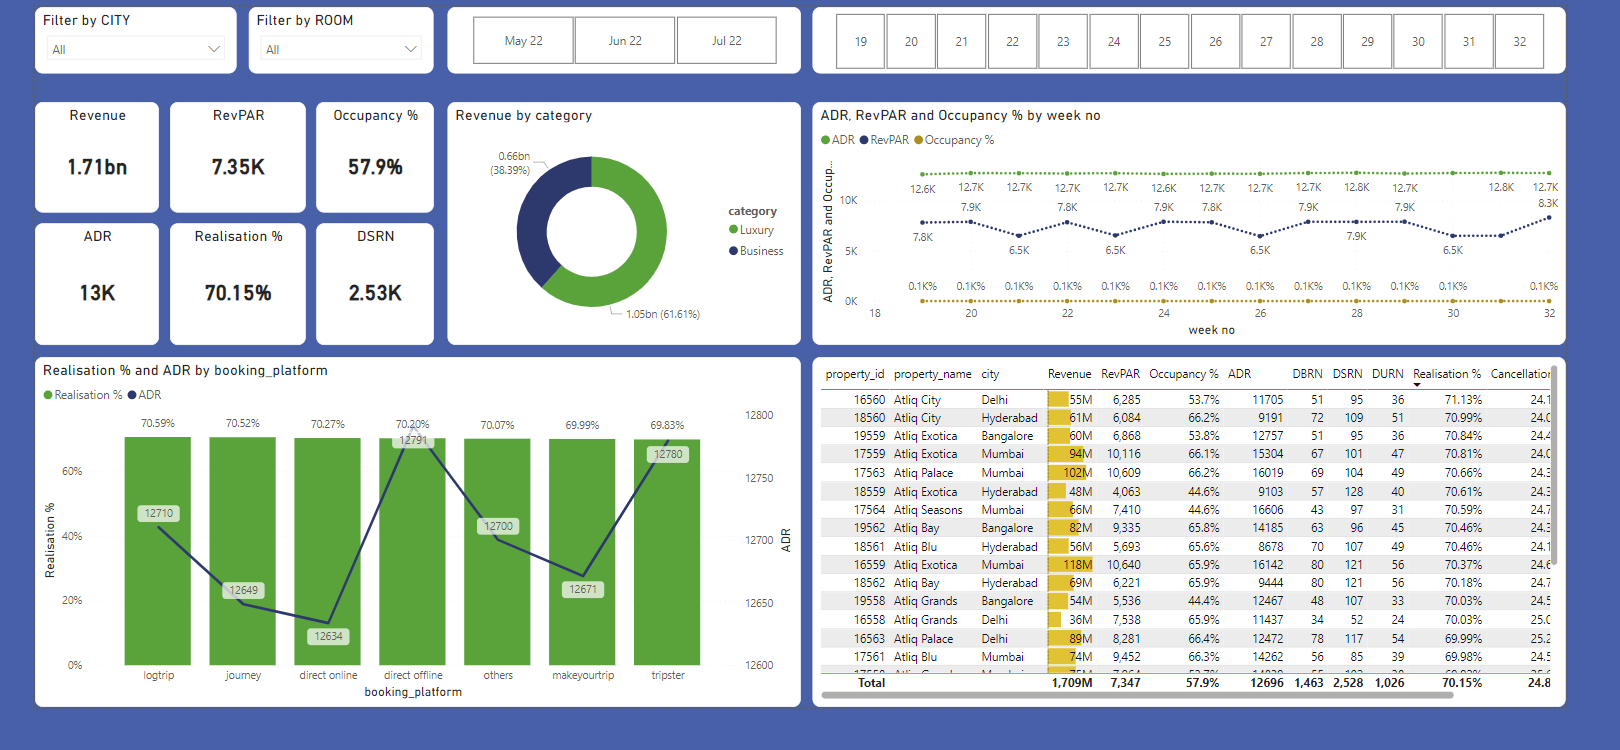

The dashboard page shown, as its layout file describes it:
{"tool":"powerbi","page":{"name":"Report","canvas":[1750,800],"ordinal":0},"visuals":[{"type":"tableEx","fields":{"Values":["dim_hotels.property_id","dim_hotels.property_name","dim_hotels.city","key_measures.Revenue","key_measures.RevPAR","key_measures.Occupancy %","key_measures.ADR","key_measures.DBRN","key_measures.DSRN","key_measures.DURN","key_measures.Realisation %","key_measures.Cancellation %"]},"box":[888.9,400,861.1,400],"z":0},{"type":"slicer","title":"Filter by CITY","fields":{"Values":["dim_hotels.city"]},"box":[0,0,230.6,76.4],"z":1000},{"type":"slicer","title":"Filter by ROOM","fields":{"Values":["dim_rooms.room_class"]},"box":[244.4,0,211.1,76.4],"z":2000},{"type":"slicer","title":"Filter by Year","fields":{"Values":["dim_date.mmm yy"]},"box":[470.8,0,404.2,76.4],"z":3000},{"type":"card","title":"Revenue","fields":{"Values":["key_measures.Revenue"]},"box":[0,108.3,141.7,126.4],"z":4000},{"type":"slicer","title":"Week","fields":{"Values":["dim_date.week no"]},"box":[888.9,0,861.1,76.4],"z":5000},{"type":"card","title":"RevPAR","fields":{"Values":["key_measures.RevPAR"]},"box":[154.2,108.3,155.6,126.4],"z":6000},{"type":"card","title":"Occupancy %","fields":{"Values":["key_measures.Occupancy %"]},"box":[320.8,108.3,134.7,126.4],"z":7000},{"type":"card","title":"ADR","fields":{"Values":["key_measures.ADR"]},"box":[0,247.2,141.7,138.9],"z":8000},{"type":"card","title":"Realisation %","fields":{"Values":["key_measures.Realisation %"]},"box":[154.2,247.2,155.6,138.9],"z":9000},{"type":"card","title":"DSRN","fields":{"Values":["key_measures.DSRN"]},"box":[320.8,247.2,134.7,138.9],"z":10000},{"type":"donutChart","fields":{"Category":["dim_hotels.category"],"Y":["key_measures.Revenue"]},"box":[470.8,108.3,404.2,277.8],"z":11000},{"type":"lineChart","fields":{"Category":["dim_date.week no"],"Y":["key_measures.ADR","key_measures.RevPAR","key_measures.Occupancy %"]},"box":[888.9,108.3,861.1,277.8],"z":12000},{"type":"lineStackedColumnComboChart","fields":{"Category":["fact_bookings.booking_platform"],"Y":["key_measures.Realisation %"],"Y2":["key_measures.ADR"]},"box":[0,400,875,400],"z":12001}]}

Visuals, with their boxes in screenshot pixels (x1, y1, x2, y2), scaled from the page's 1750x800 canvas onto the 1620x750 screenshot:
tableEx - dim_hotels.property_id x dim_hotels.property_name: {"left": 823, "top": 375, "right": 1619, "bottom": 749}
"Filter by CITY" slicer: {"left": 0, "top": 0, "right": 213, "bottom": 72}
"Filter by ROOM" slicer: {"left": 226, "top": 0, "right": 422, "bottom": 72}
"Filter by Year" slicer: {"left": 436, "top": 0, "right": 810, "bottom": 72}
"Revenue" card: {"left": 0, "top": 102, "right": 131, "bottom": 220}
"Week" slicer: {"left": 823, "top": 0, "right": 1619, "bottom": 72}
"RevPAR" card: {"left": 143, "top": 102, "right": 287, "bottom": 220}
"Occupancy %" card: {"left": 297, "top": 102, "right": 422, "bottom": 220}
"ADR" card: {"left": 0, "top": 232, "right": 131, "bottom": 362}
"Realisation %" card: {"left": 143, "top": 232, "right": 287, "bottom": 362}
"DSRN" card: {"left": 297, "top": 232, "right": 422, "bottom": 362}
donutChart - dim_hotels.category x key_measures.Revenue: {"left": 436, "top": 102, "right": 810, "bottom": 362}
lineChart - dim_date.week no x key_measures.ADR: {"left": 823, "top": 102, "right": 1619, "bottom": 362}
lineStackedColumnComboChart - fact_bookings.booking_platform x key_measures.Realisation %: {"left": 0, "top": 375, "right": 810, "bottom": 749}
